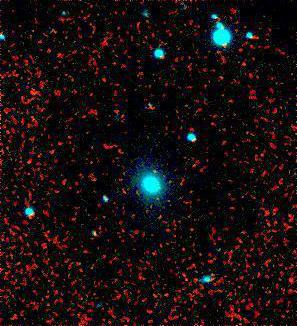star: (140, 158, 170, 188)
